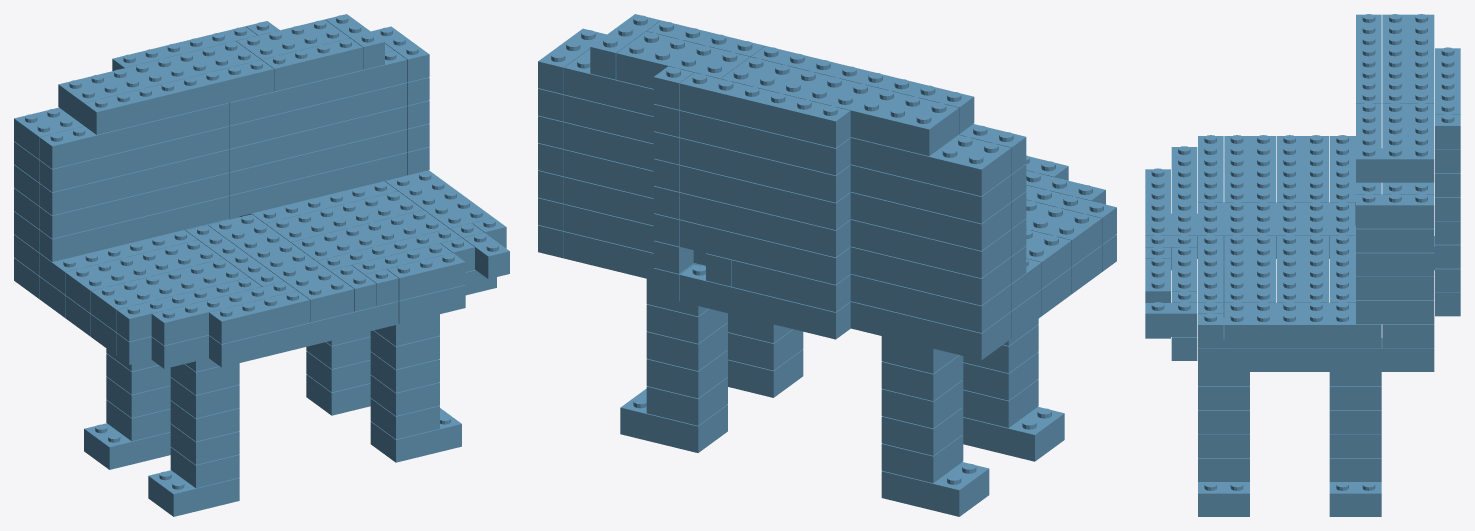
The model's file is 030_bed_L5.glb.
The picture shows the model from 3 angles, left to right: view 1: azimuth 30°, elevation 25°; view 2: azimuth 150°, elevation 25°; view 3: azimuth 270°, elevation 25°; orthographic projection. The views are drawn at different scales.
Size of the model in its own units: 16.98 by 15.13 by 11.98.
